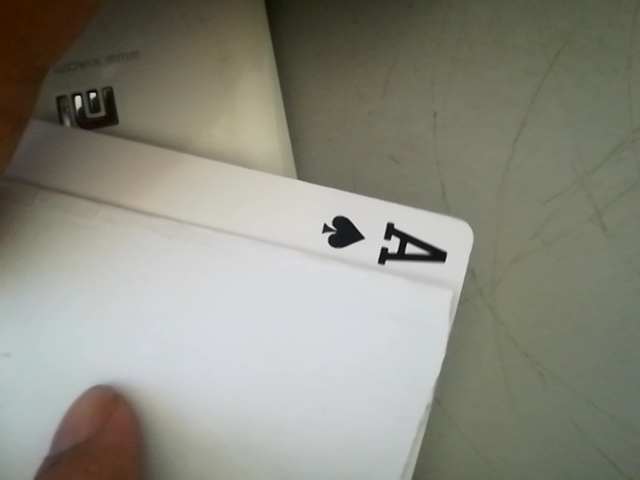ht a: (301, 204, 462, 277)
